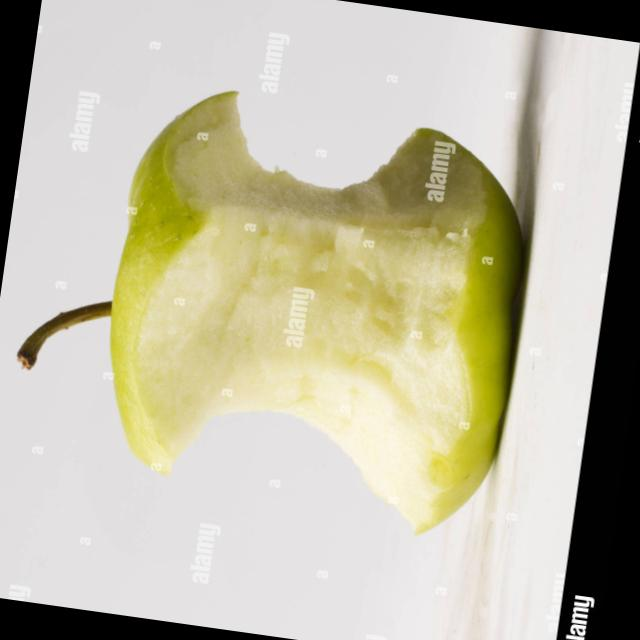apple_fruit: (96, 60, 542, 566)
